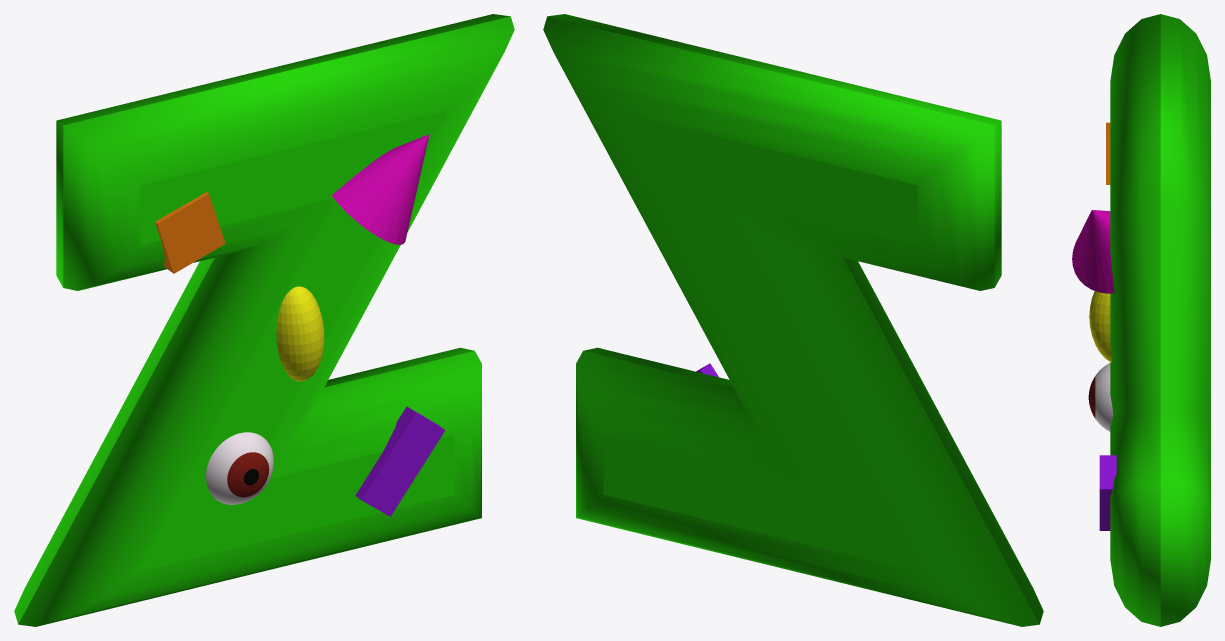
File: z_green.fbx
3 views of the same model, side by side, from view 1: azimuth 30°, elevation 25°; view 2: azimuth 150°, elevation 25°; view 3: azimuth 270°, elevation 25° (orthographic). The views are drawn at different scales.
Parts seen in each view (by area): view 1: Text, Cone, Cube.001, Sphere, Sphere.002, Cube; view 2: Text; view 3: Text, Cone, Sphere.002, Sphere, Cube.001, Cube.
Boxes of the visible parts, box(x1,y1,x2,y2) form: Text: box(14, 14, 514, 626); Cone: box(332, 134, 429, 244); Cube.001: box(355, 406, 445, 516); Sphere: box(206, 432, 273, 504); Sphere.002: box(276, 286, 324, 381); Cube: box(155, 192, 225, 273); Text: box(543, 14, 1043, 626); Text: box(1110, 14, 1210, 626); Cone: box(1072, 210, 1114, 293); Sphere.002: box(1089, 291, 1111, 362); Sphere: box(1088, 363, 1113, 431); Cube.001: box(1099, 455, 1116, 530); Cube: box(1106, 122, 1110, 184).
Size of the model in its own units: 58.41 by 55.3 by 16.03.
